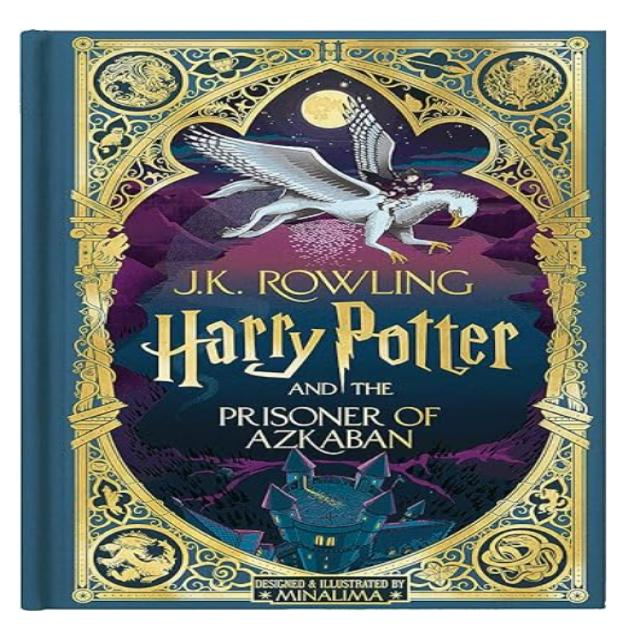titles-or-authors: (135, 302, 530, 456), (167, 263, 486, 298)
